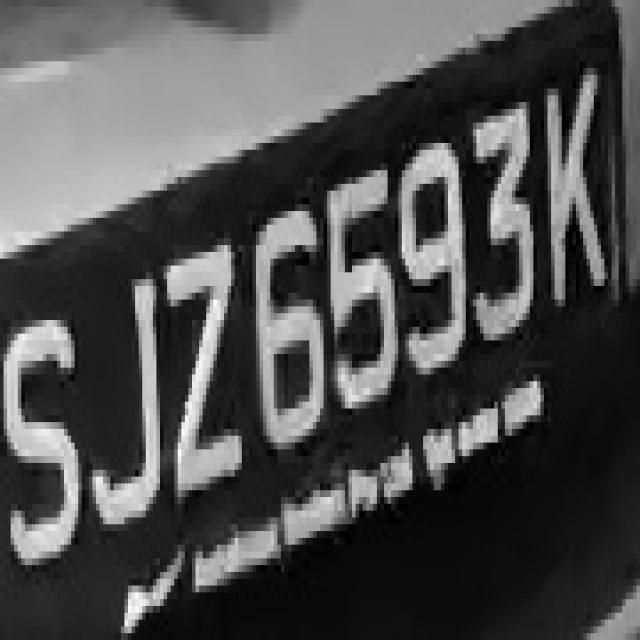3: (459, 95, 537, 348)
5: (310, 156, 406, 442)
6: (238, 171, 327, 484)
9: (388, 143, 477, 415)
J: (75, 245, 167, 552)
K: (522, 75, 612, 313)
S: (4, 292, 78, 586)
Z: (153, 238, 249, 524)
